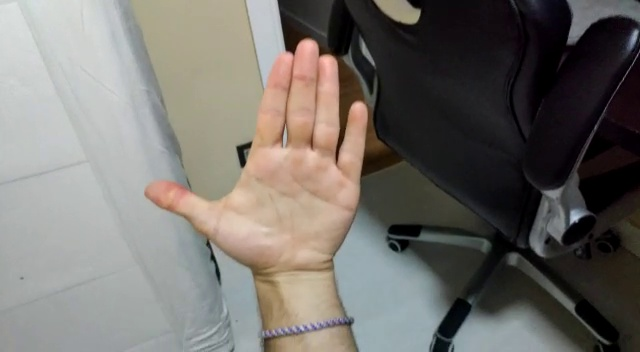Palm: (141, 30, 372, 300)
